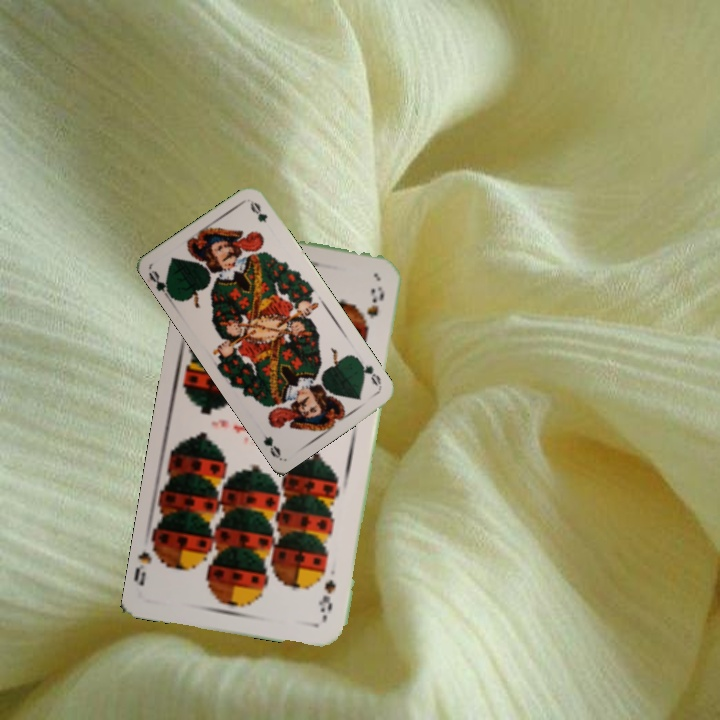GO: (145, 266, 177, 304), (354, 355, 384, 390)
S9: (316, 575, 339, 615)
